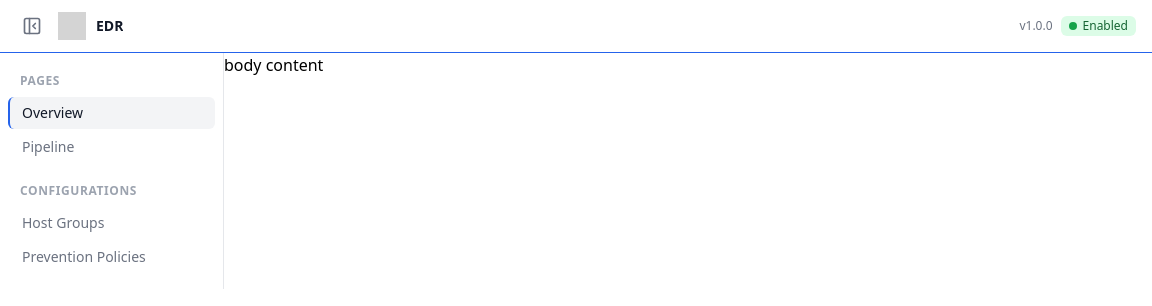
AppShell sidebar collapse › collapses and expands the rail from the header toggle, persisting the choice
Expected: the list named "Pages" is shown, [8, 97, 215, 163]
Expected: the link "Host Groups" is shown, [22, 213, 104, 232]
Click the button named "Collapse navigation" at (32, 26), box [16, 10, 48, 42]
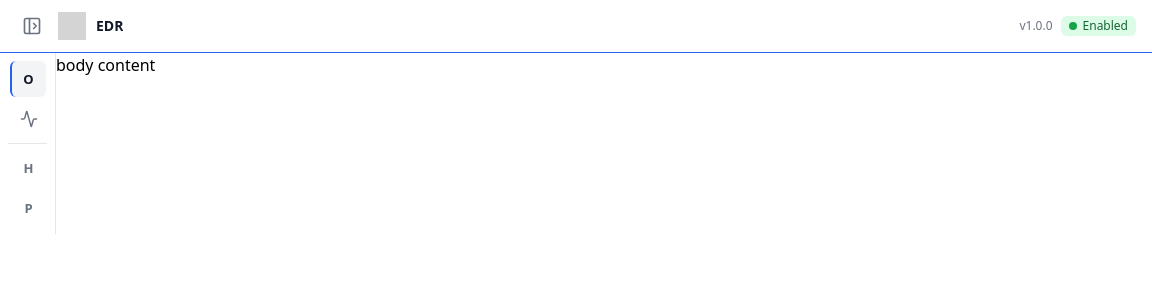
Expected: the link named "Host Groups" is shown, [24, 158, 34, 176]
Now the text "Pages" is gone
Now the button named "Expand navigation" is shown
Click the button named "Expand navigation" at (32, 26), box [16, 10, 48, 42]
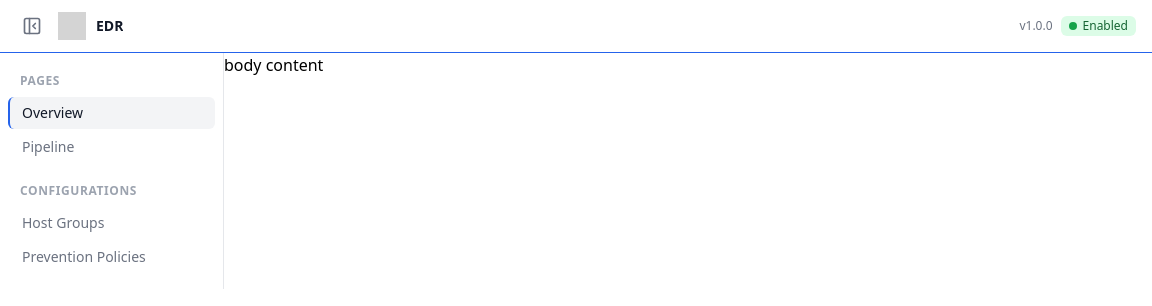
Now the list named "Pages" is shown, box [8, 97, 215, 163]
